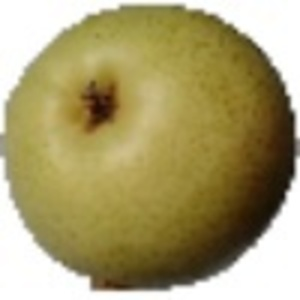pera: (1, 1, 300, 295)
